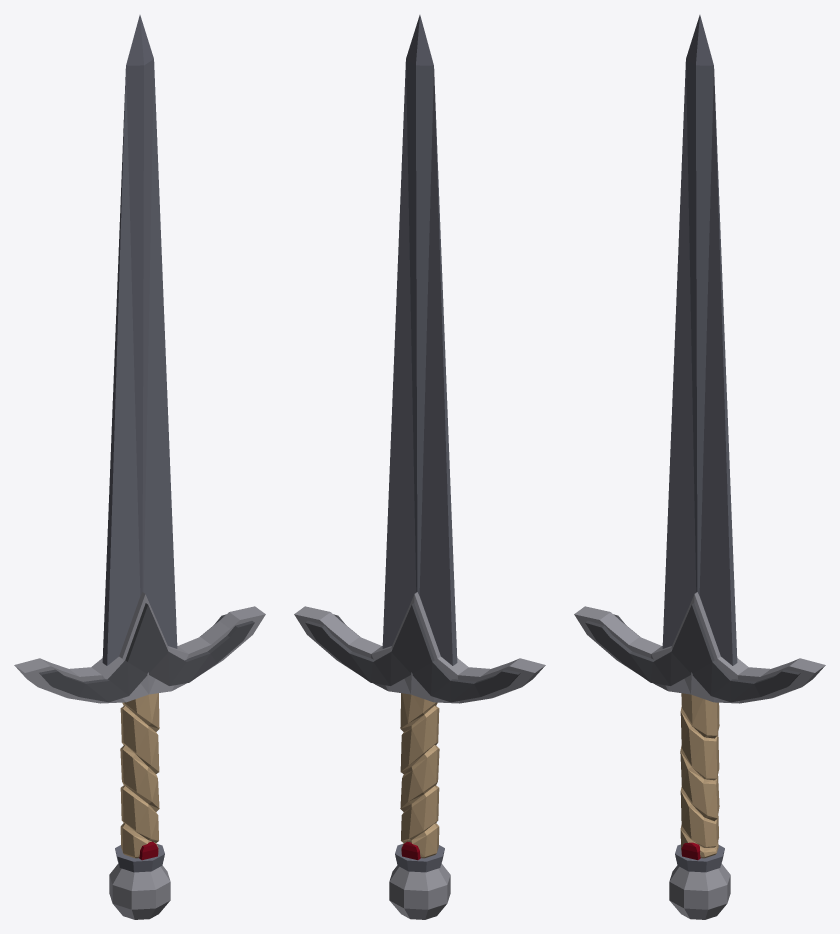
Rendered from EnemyWeapon.gltf.
The picture shows the model from 3 angles, left to right: view 1: azimuth 30°, elevation 25°; view 2: azimuth 150°, elevation 25°; view 3: azimuth 330°, elevation 25°; orthographic projection.
Visible parts, largest first — view 1: sword_1; view 2: sword_1; view 3: sword_1.
Boxes of the visible parts, x1=… form: sword_1: x1=14, y1=15, x2=265, y2=919; sword_1: x1=294, y1=15, x2=545, y2=919; sword_1: x1=574, y1=15, x2=825, y2=919.
Size of the model in its own units: 0.2258 by 0.8092 by 0.0515.
Materials: 1 (1 with a texture image).
